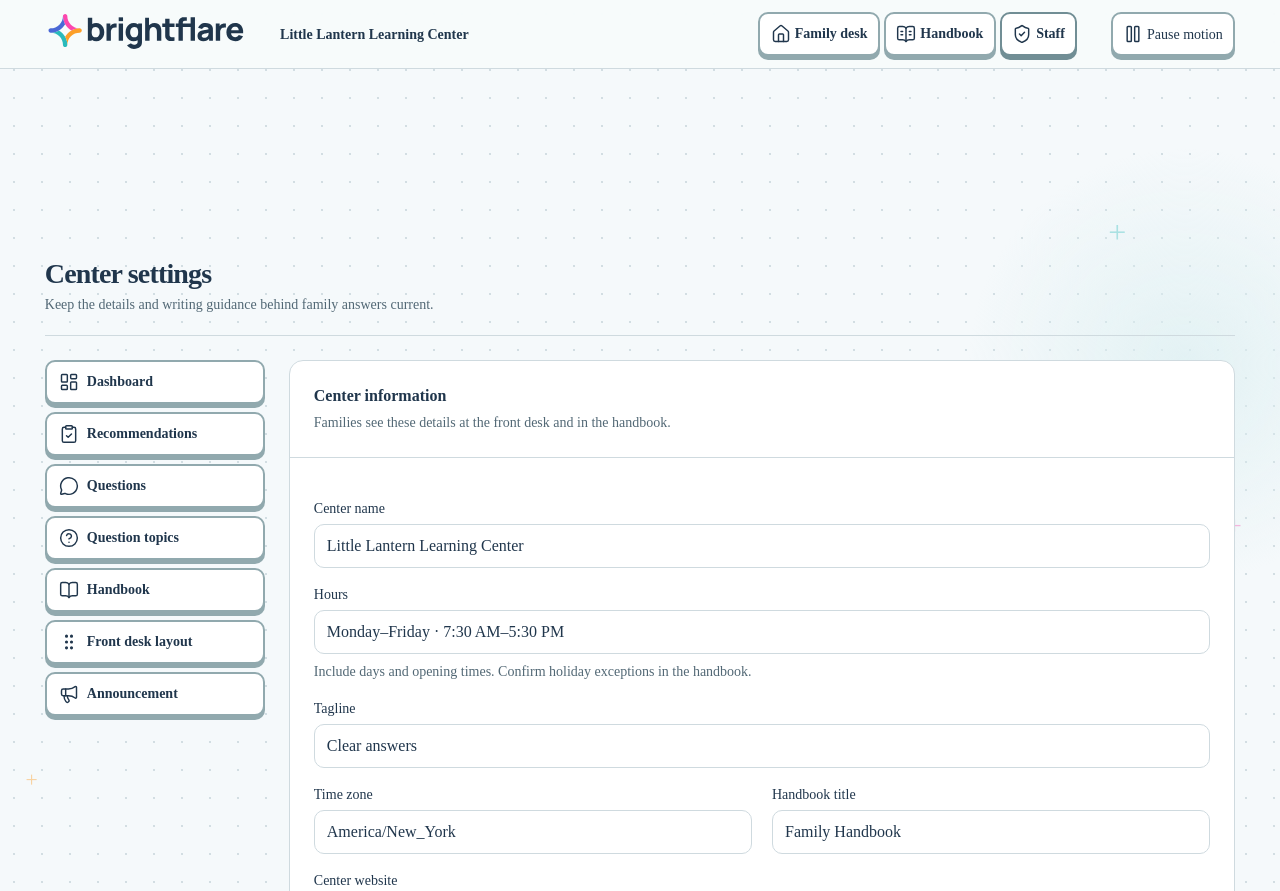
saves center details and writing guidance together
This screenshot has width=1280, height=891.
Replace the text in the field labelled "Hours" with "Monday–Friday · 8 AM–5 PM" at [762, 632], box [314,610,1210,654]
(page scrolled)
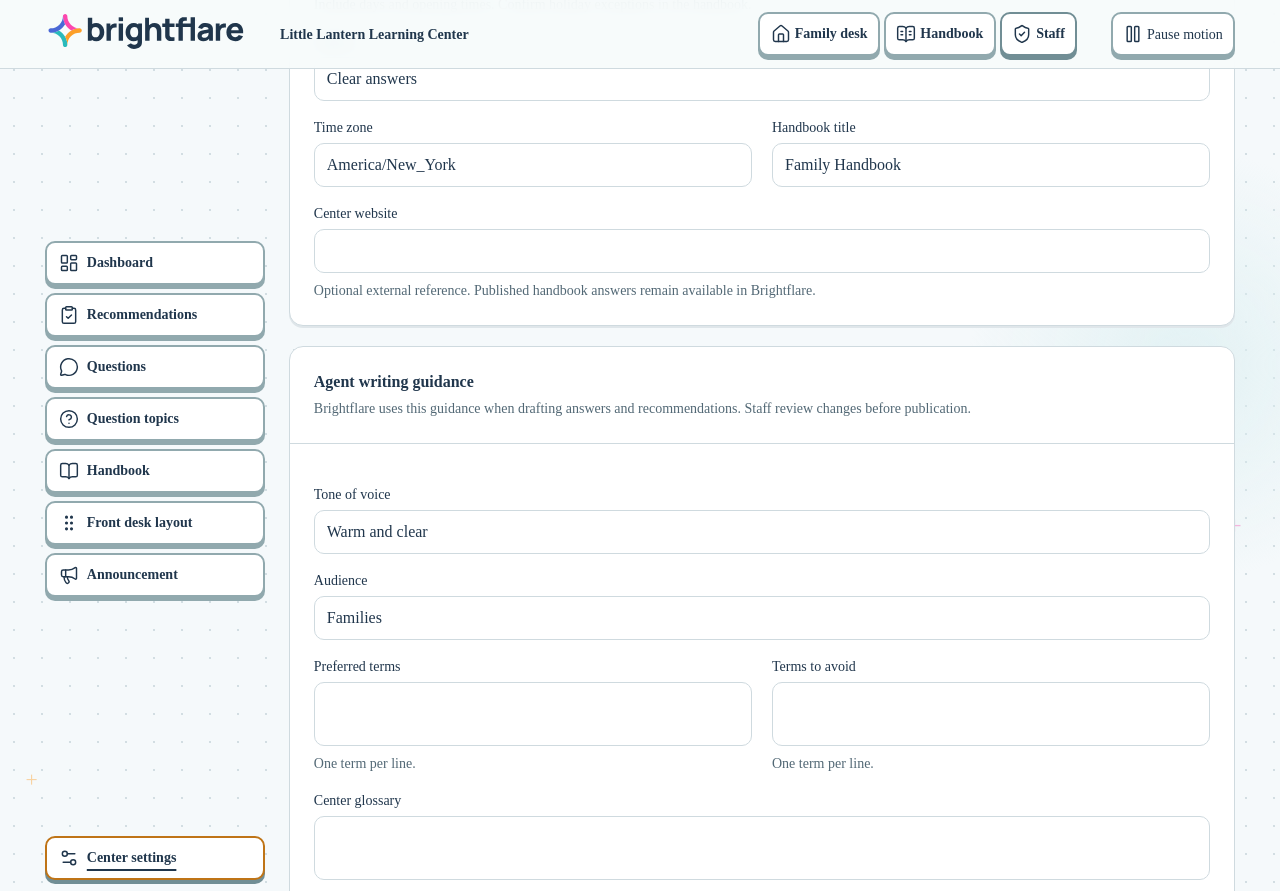
Replace the text in the field labelled "Tone of voice" with "Calm and concise" at [762, 532], box [314,510,1210,554]
(page scrolled)
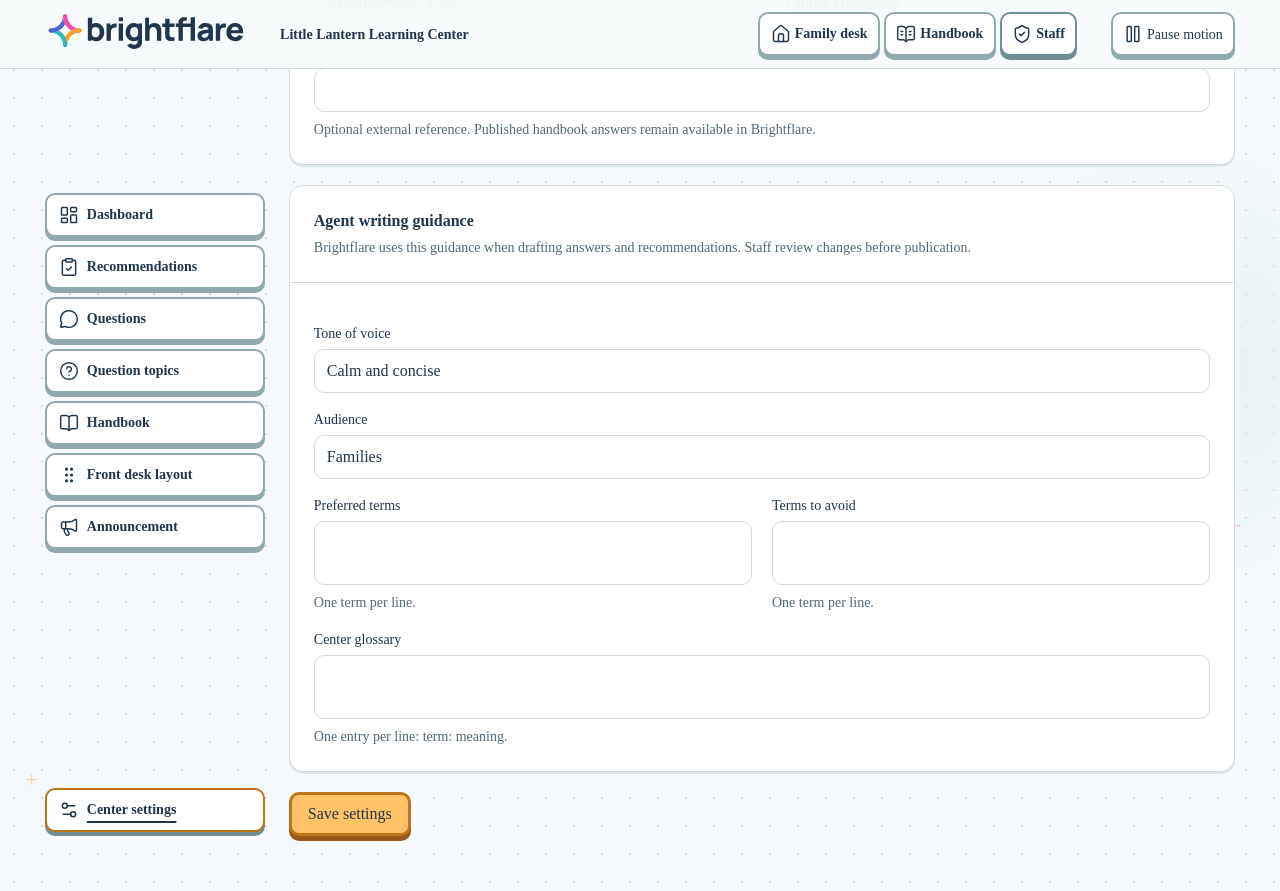
Click the button "Save settings" at [350, 814], box [289,792,411,836]
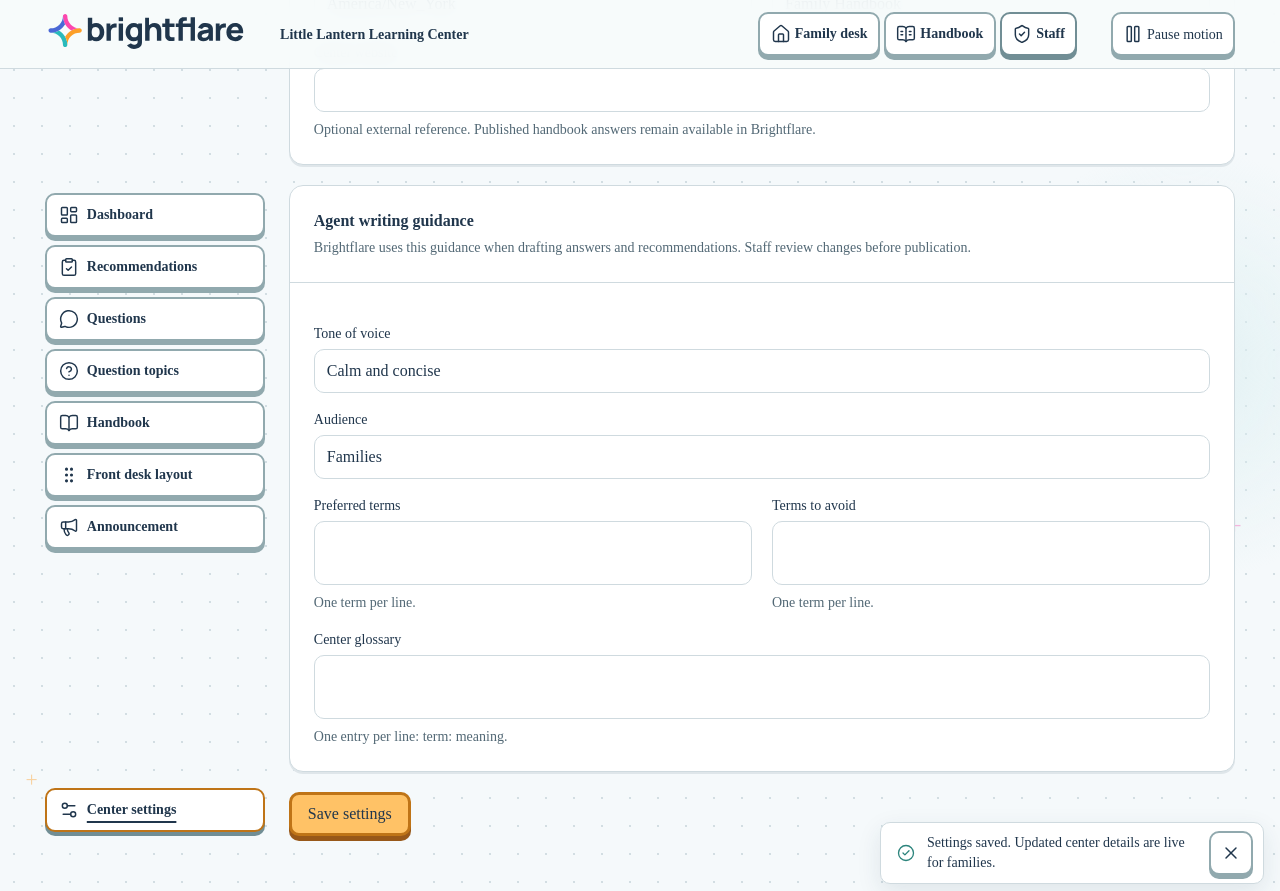
Check: the message shows "Settings saved", box [927,835,1185,870]
